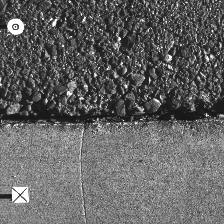circle: (7, 18, 24, 36)
crack: (1, 107, 223, 126)
square: (11, 187, 28, 203)
